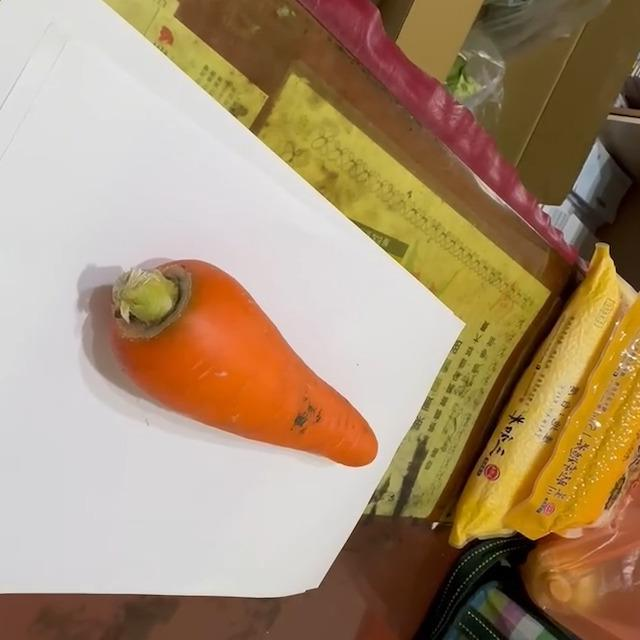carrot: (108, 258, 382, 470)
